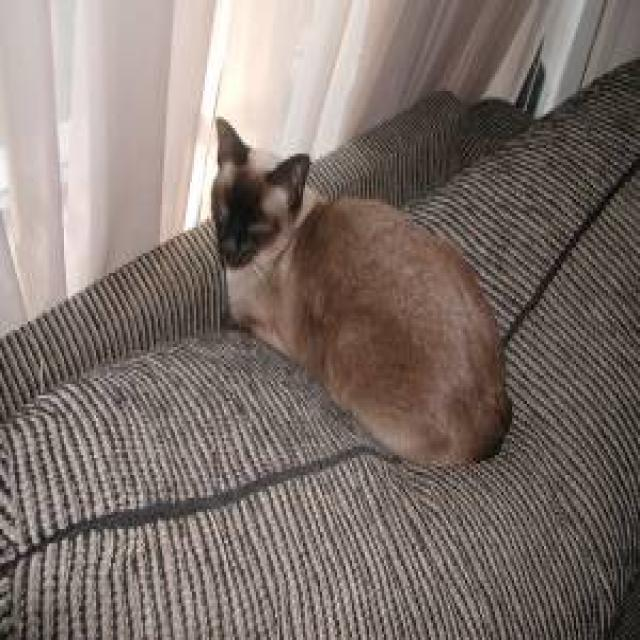Siamese: (204, 110, 317, 274)
